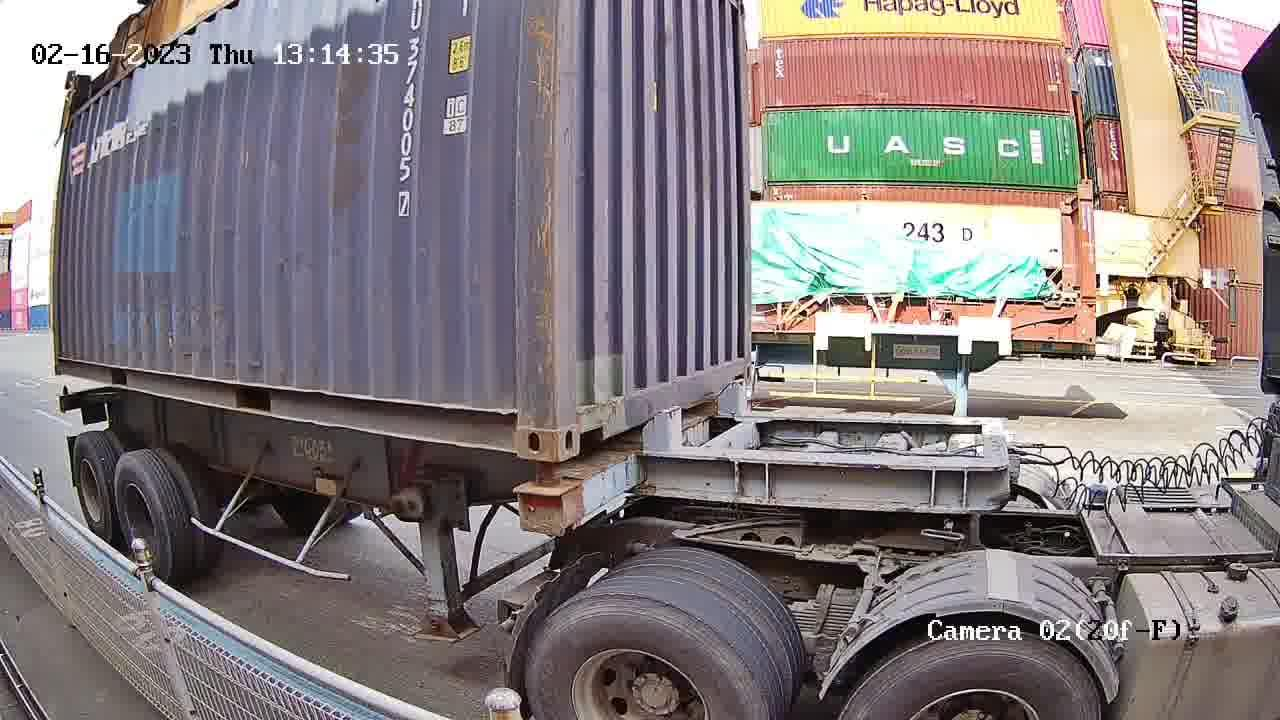Chassis: (518, 403, 750, 530)
Cone: (519, 460, 570, 533)
Hole_L: (557, 376, 618, 457)
Hole_R: (480, 381, 557, 457), (719, 338, 753, 390)
Tire: (526, 595, 763, 717), (843, 631, 1097, 717), (115, 463, 163, 574), (73, 443, 111, 532)
